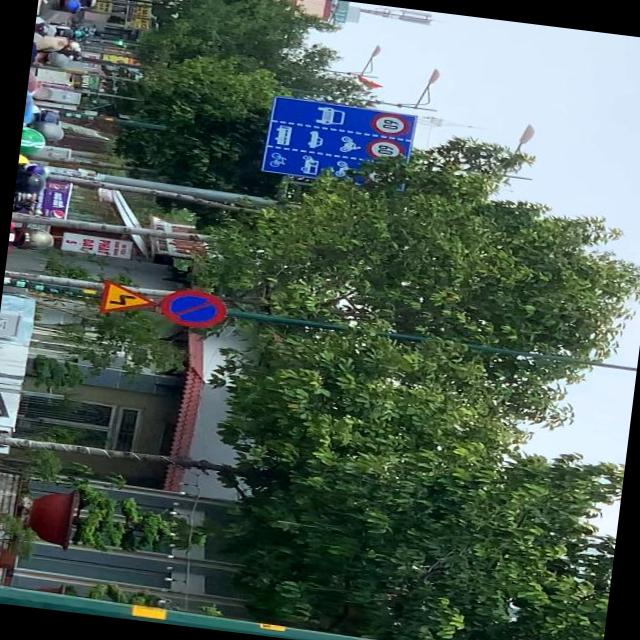P-131a: (158, 285, 228, 327)
W-202a: (98, 277, 159, 316)
